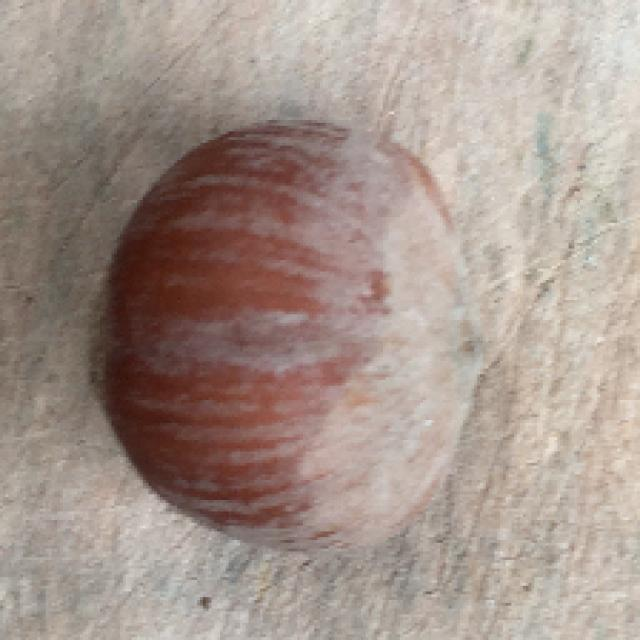QualityHazelnut: (85, 118, 483, 555)
